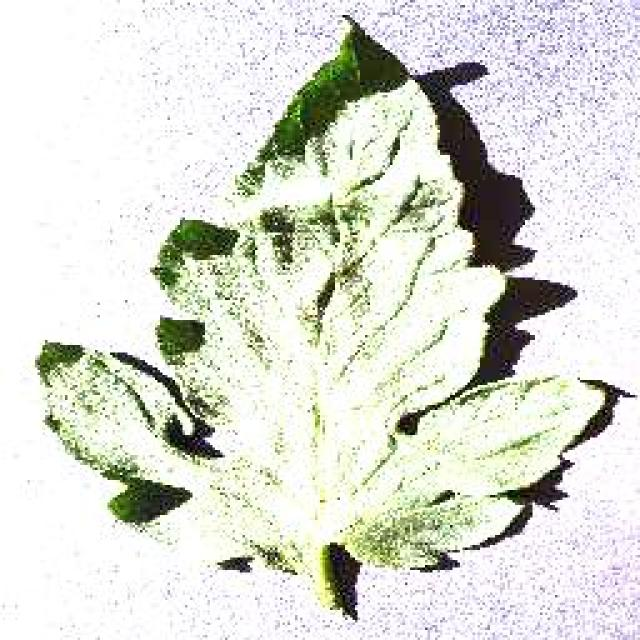Tomato___healthy: (41, 13, 619, 622)
